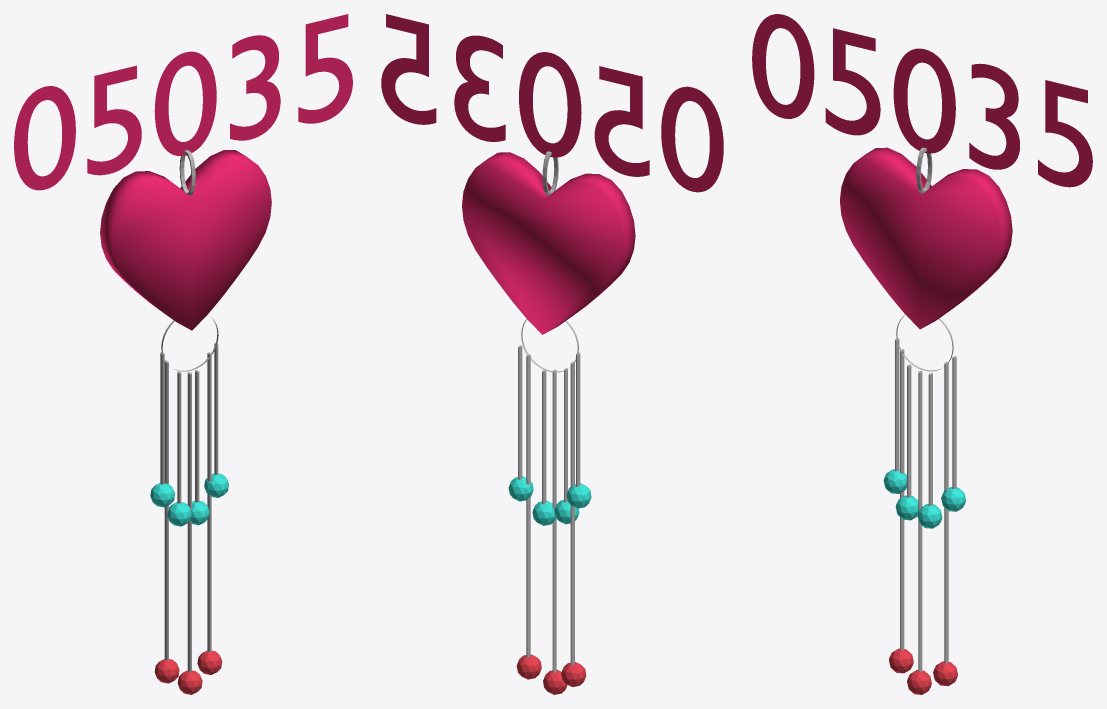
3 renders of one model, left to right at view 1: azimuth 30°, elevation 25°; view 2: azimuth 150°, elevation 25°; view 3: azimuth 330°, elevation 25°, orthographic.
Parts seen in each view (by area): view 1: Text; view 2: Text; view 3: Text.
Part boxes in pixels (x1,y1,x2,y2): Text: (14, 14, 352, 694); Text: (381, 14, 723, 694); Text: (752, 14, 1092, 694).
Size of the model in its own units: 2.41 by 4.33 by 0.2262.
